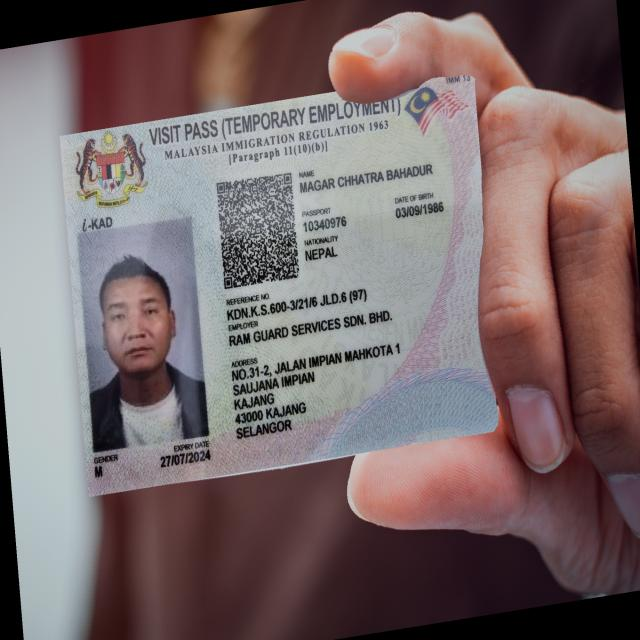ikad-temp: (58, 73, 499, 496)
